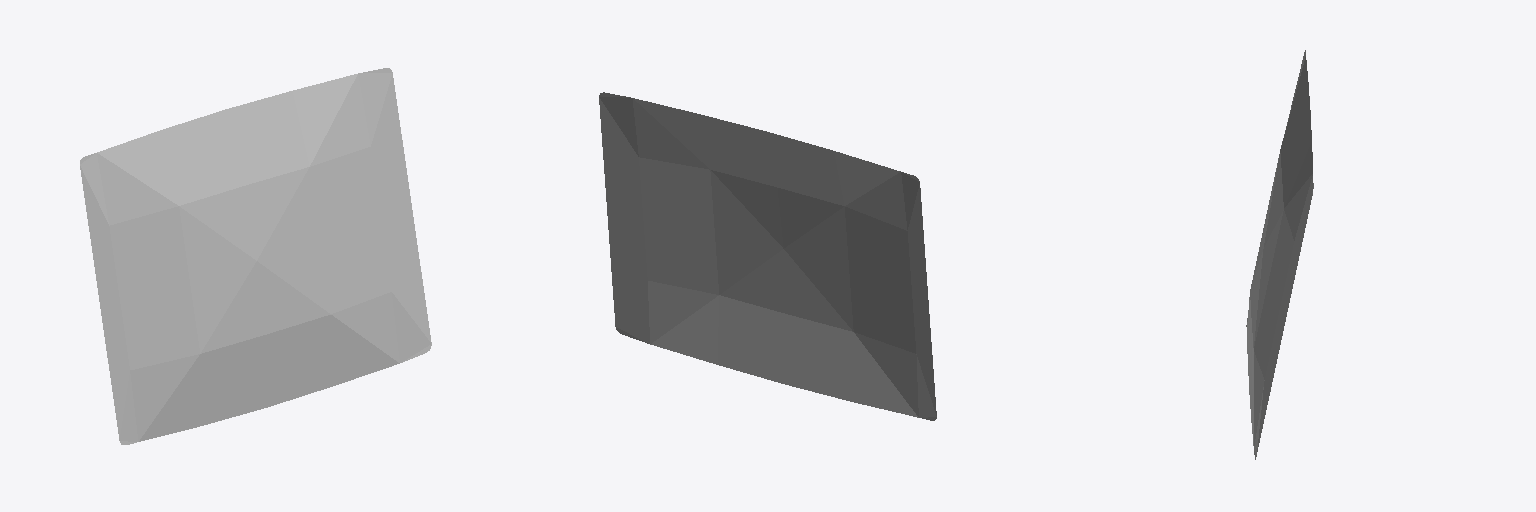
The model's file is screen.obj.
The picture shows the model from 3 angles: view 1: azimuth 30°, elevation 25°; view 2: azimuth 150°, elevation 25°; view 3: azimuth 270°, elevation 25°; orthographic projection.
Parts seen in each view (by area): view 1: Bildschirm; view 2: Bildschirm; view 3: Bildschirm.
Boxes of the visible parts, box(x1,y1,x2,y2) form: Bildschirm: box(80, 68, 431, 444); Bildschirm: box(599, 92, 936, 420); Bildschirm: box(1246, 50, 1313, 459).
Size of the model in its own units: 0.4227 by 0.3478 by 0.0749.